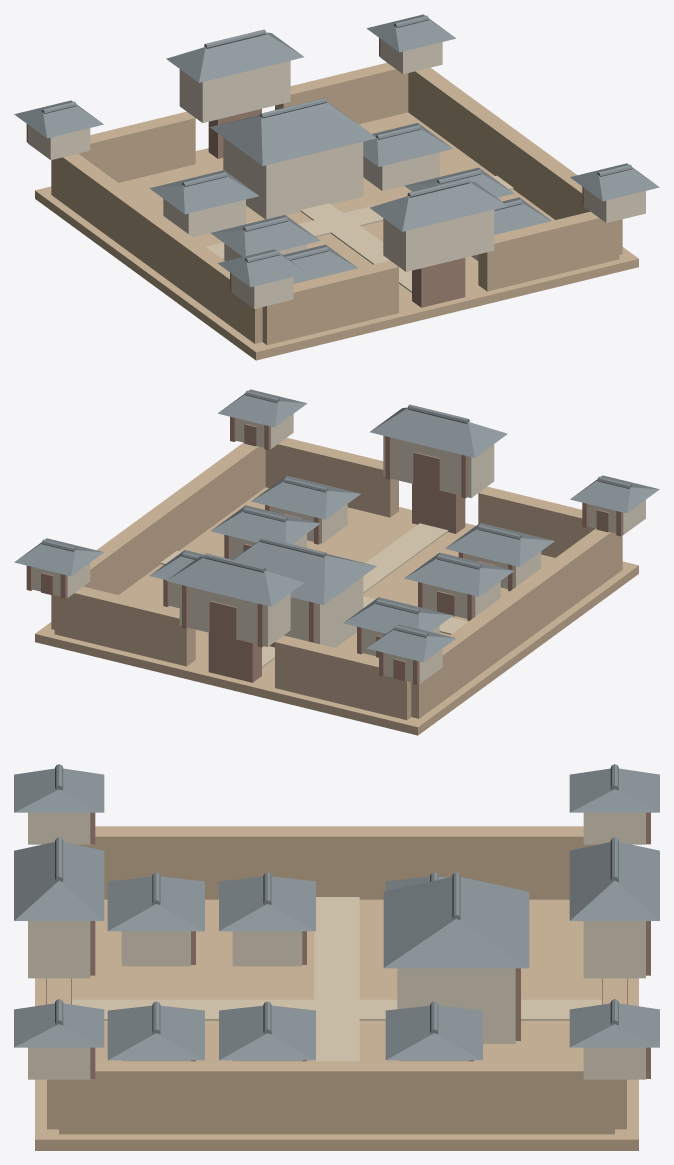
Rendered from city-county.glb.
3 views of the same model, one above another, from view 1: azimuth 30°, elevation 25°; view 2: azimuth 150°, elevation 25°; view 3: azimuth 270°, elevation 25° (orthographic). The views are drawn at different scales.
Bounding box in the file's own units: 9.3 × 2.64 × 9.3.
